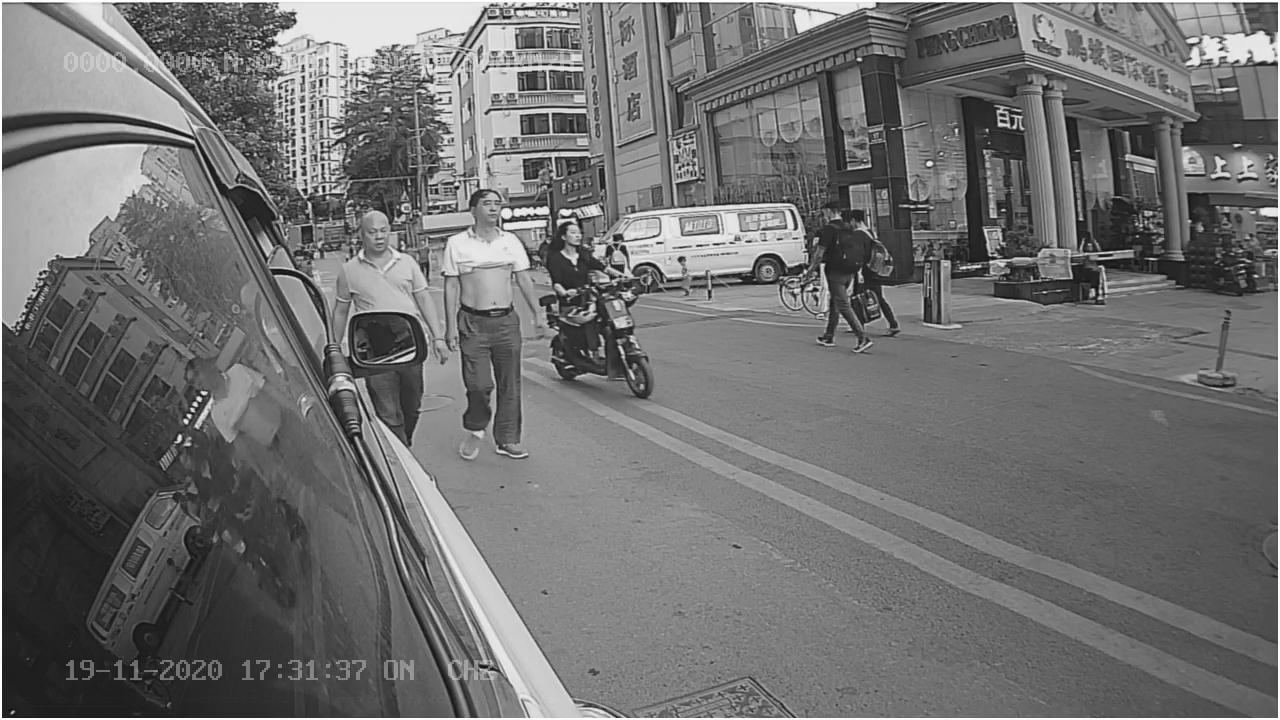person: (441, 190, 540, 454)
